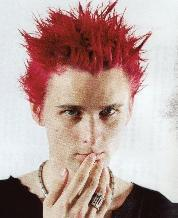face: (57, 101, 120, 164)
